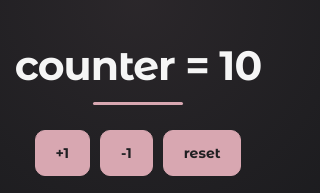
Scenario: MyCounterApp › should decrese the header when active the -1 button
Click the button "-1" at (126,153), box left=100, top=130, right=153, bottom=176
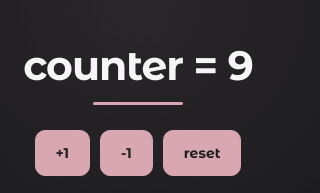
Result: the heading reads "counter = 9" at left=23, top=40, right=253, bottom=105
